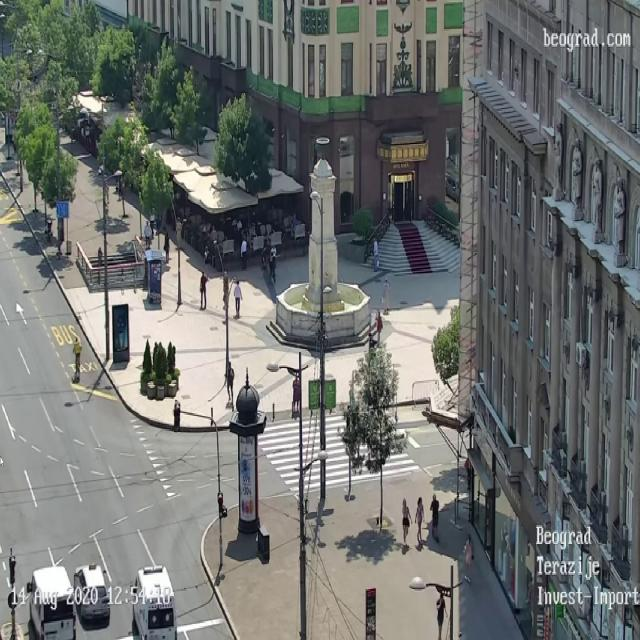car: (131, 564, 177, 640), (30, 567, 72, 640), (74, 562, 108, 626)
